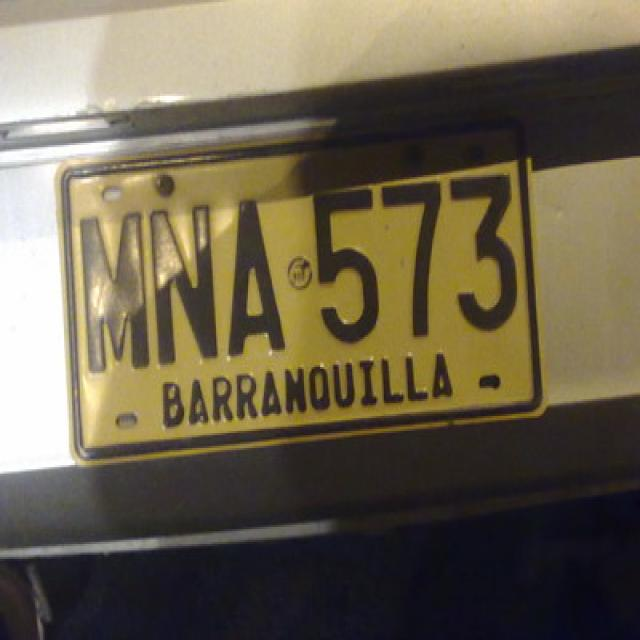placa_carro: (50, 90, 550, 467)
